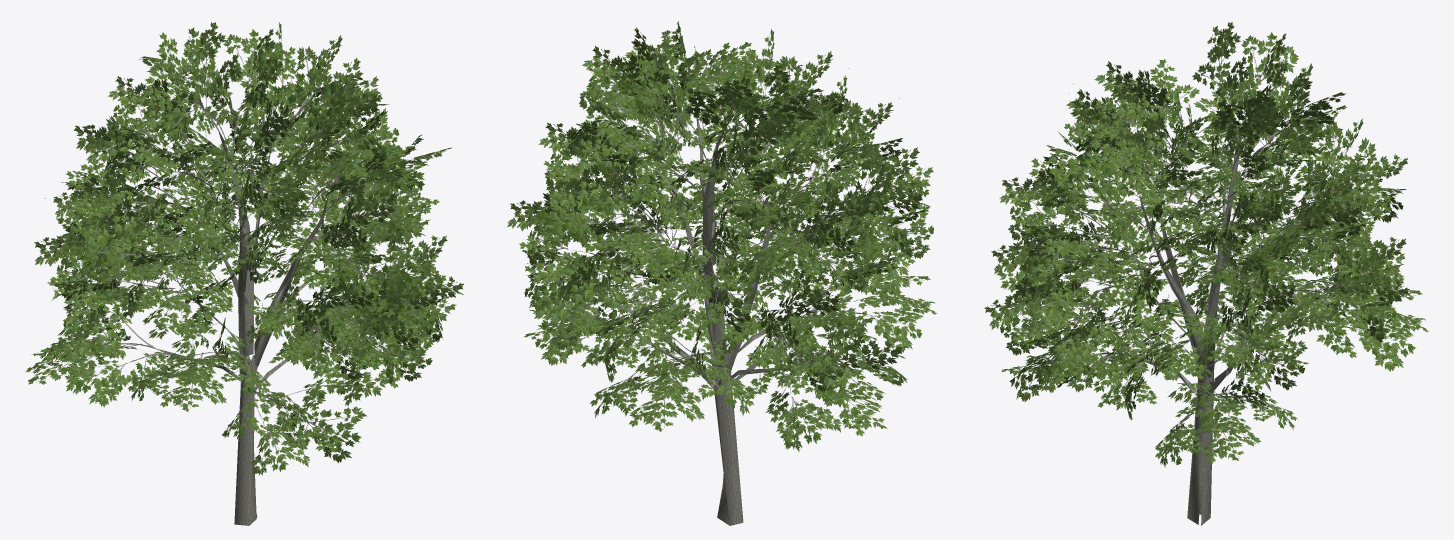
Rendered from Tree.fbx.
3 views of the same model, side by side, from view 1: azimuth 30°, elevation 25°; view 2: azimuth 150°, elevation 25°; view 3: azimuth 270°, elevation 25° (orthographic). The views are drawn at different scales.
Visible parts, largest first — view 1: Tree; view 2: Tree; view 3: Tree.
Boxes of the visible parts, x1,y1,x2,y2 form: Tree: [25, 22, 463, 525]; Tree: [507, 21, 936, 525]; Tree: [984, 22, 1428, 525].
Size of the model in its own units: 5.79 by 6.83 by 6.03.
Materials: 2 (2 with a texture image).
